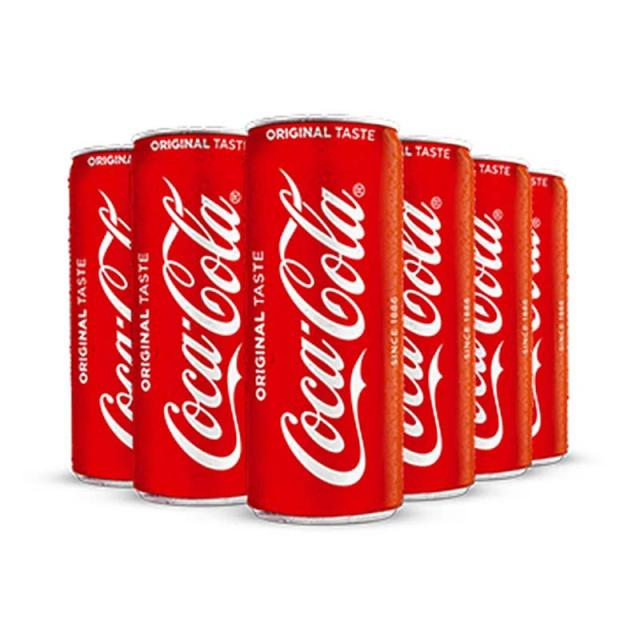cocacola: (244, 116, 404, 529), (122, 130, 258, 507), (59, 144, 163, 500), (394, 132, 485, 507), (471, 134, 531, 476), (530, 150, 570, 483)
